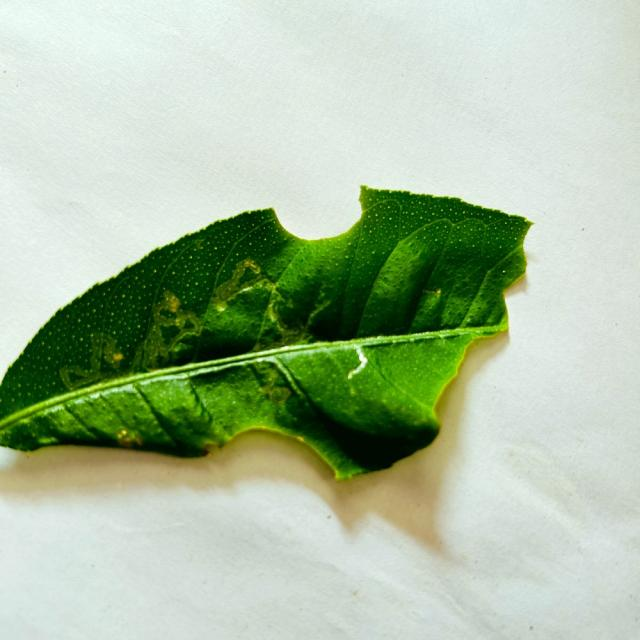Deficiency Leaf: (439, 222, 597, 449), (193, 431, 337, 500), (273, 183, 361, 239)
Lemon: (0, 188, 531, 479)
